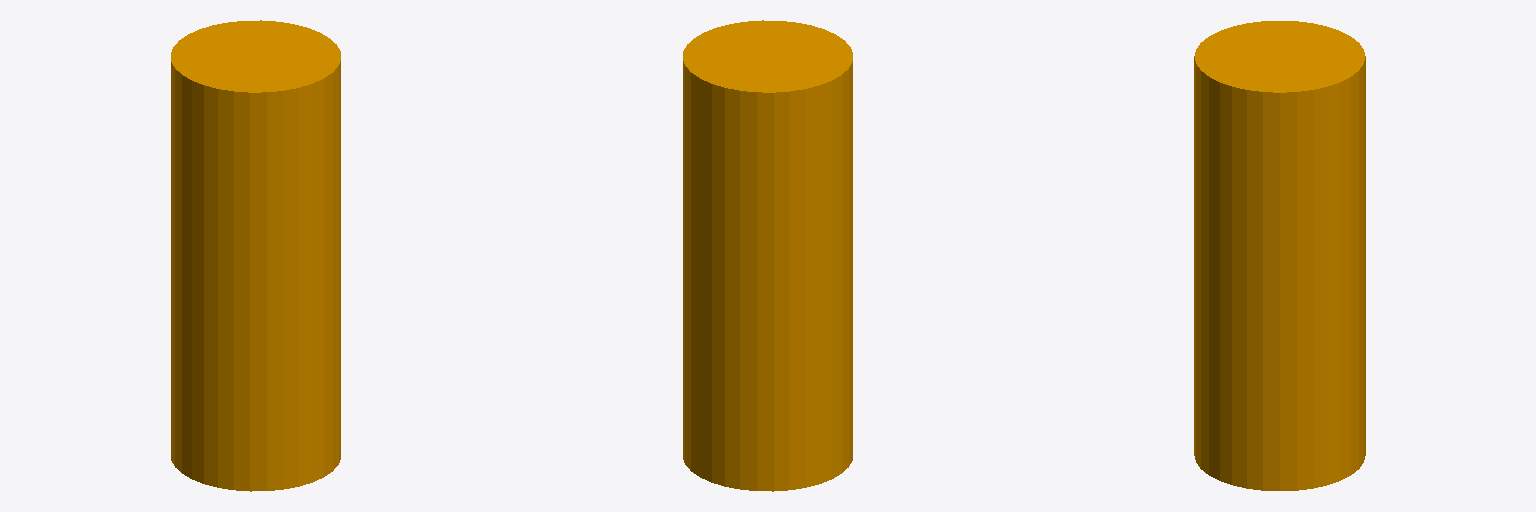
The robot description file, URDF, robot "bottle":
<?xml version="1.0"?>
<robot name="bottle">
  <link name="base_link">
    <inertial>
      <origin xyz="0 0 0" rpy="0 0 0"/>
      <mass value="0.30"/>
      <inertia ixx="0.0008" ixy="0" ixz="0" iyy="0.0008" iyz="0" izz="0.00018"/>
    </inertial>
    <collision>
      <origin xyz="0 0 0" rpy="0 0 0"/>
      <geometry>
        <mesh filename="../mesh/simplified.obj" scale="1 1 1"/>
      </geometry>
    </collision>
    <visual>
      <origin xyz="0 0 0" rpy="0 0 0"/>
      <geometry>
        <mesh filename="../mesh/simplified.obj" scale="1 1 1"/>
      </geometry>
    </visual>
  </link>
</robot>

--- What the picture shows (computed from the rendered views, not written in the file) ---
3 views of the same robot in one strip: view 1: azimuth 30°, elevation 25°; view 2: azimuth 150°, elevation 25°; view 3: azimuth 270°, elevation 25° (orthographic).
Model bottle with 1 links and 0 joints (none), rooted at base_link, posed every joint at zero.
Links seen in each view (by area): view 1: base_link; view 2: base_link; view 3: base_link.
Boxes of the visible links, bbox=[...] form: base_link: bbox=[171, 20, 340, 491]; base_link: bbox=[683, 20, 852, 491]; base_link: bbox=[1194, 21, 1365, 490].
Size in the robot's own frame: 0.07 by 0.07 by 0.18 metres.
1 mesh visuals loaded from 1 distinct referenced files (1 OBJ).
